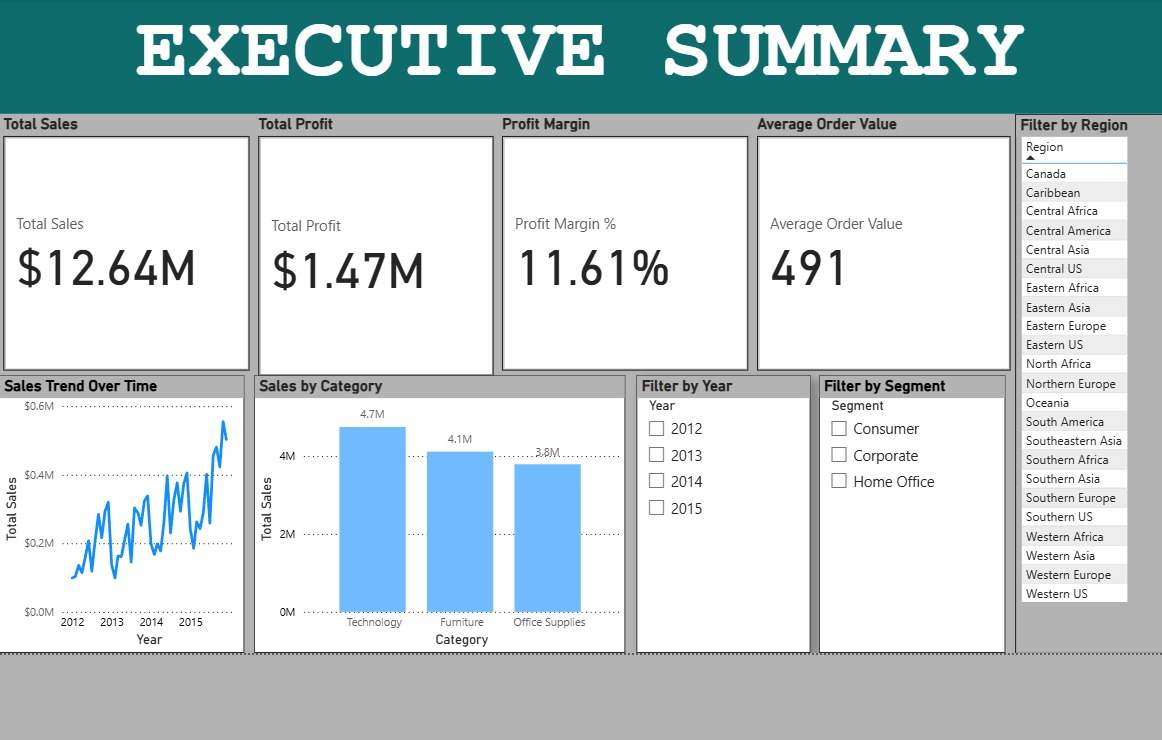

The dashboard page shown, as its layout file describes it:
{"tool":"powerbi","page":{"name":"Executive Summary","canvas":[1280,720],"ordinal":0},"visuals":[{"type":"cardVisual","title":"Total Profit","fields":{"Data":["Orders.Total Profit"]},"box":[280,127.1,268.6,292.9],"z":0},{"type":"cardVisual","title":"Profit Margin","fields":{"Data":["Orders.Profit Margin %"]},"box":[548.6,127.1,280,287.1],"z":1000},{"type":"cardVisual","title":"Average Order Value","fields":{"Data":["Orders.Average Order Value"]},"box":[828.6,127.1,288.6,287.1],"z":2000},{"type":"cardVisual","title":"Total Sales","fields":{"Data":["Orders.Total Sales"]},"box":[0,127.1,280,287.1],"z":3000},{"type":"lineChart","title":"Sales Trend Over Time","fields":{"Y":["Orders.Total Sales"],"Category":["Orders.Order Date.Variation.Date Hierarchy.Year","Orders.Order Date.Variation.Date Hierarchy.Month"]},"box":[0,414.9,269.2,305],"z":4000},{"type":"clusteredColumnChart","title":"Sales by Category","fields":{"Category":["Orders.Category"],"Y":["Orders.Total Sales"]},"box":[280.2,414.9,408,305],"z":5000},{"type":"slicer","title":"Filter by Year","fields":{"Values":["Orders.Order Date.Variation.Date Hierarchy.Year"]},"box":[700.6,414.9,190.9,305],"z":6000},{"type":"tableEx","title":"Filter by Region","fields":{"Values":["Orders.Region"]},"box":[1117.1,127.1,162.9,592.9],"z":7000},{"type":"slicer","title":"Filter by Segment","fields":{"Values":["Orders.Segment"]},"box":[901.1,414.9,204.7,305],"z":8000},{"type":"textbox","box":[0,0,1280,127.1],"z":9000}]}

Visuals, with their boxes on the page's 1280x720 design canvas (x1, y1, x2, y2). These are canvas units, not pixel positions in the 1162x740 screenshot, which may show the page scaled, cropped or inside an application window:
"Total Profit" cardVisual: {"left": 280, "top": 127, "right": 549, "bottom": 420}
"Profit Margin" cardVisual: {"left": 549, "top": 127, "right": 829, "bottom": 414}
"Average Order Value" cardVisual: {"left": 829, "top": 127, "right": 1117, "bottom": 414}
"Total Sales" cardVisual: {"left": 0, "top": 127, "right": 280, "bottom": 414}
"Sales Trend Over Time" lineChart: {"left": 0, "top": 415, "right": 269, "bottom": 720}
"Sales by Category" clusteredColumnChart: {"left": 280, "top": 415, "right": 688, "bottom": 720}
"Filter by Year" slicer: {"left": 701, "top": 415, "right": 892, "bottom": 720}
"Filter by Region" tableEx: {"left": 1117, "top": 127, "right": 1280, "bottom": 720}
"Filter by Segment" slicer: {"left": 901, "top": 415, "right": 1106, "bottom": 720}
textbox: {"left": 0, "top": 0, "right": 1280, "bottom": 127}
